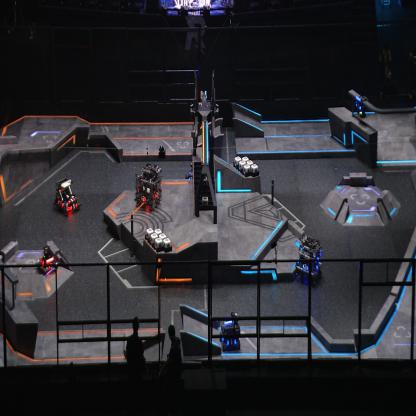car: (294, 235, 324, 285), (134, 163, 163, 212), (53, 176, 82, 217), (219, 311, 242, 353), (34, 245, 58, 273), (184, 161, 199, 183)
